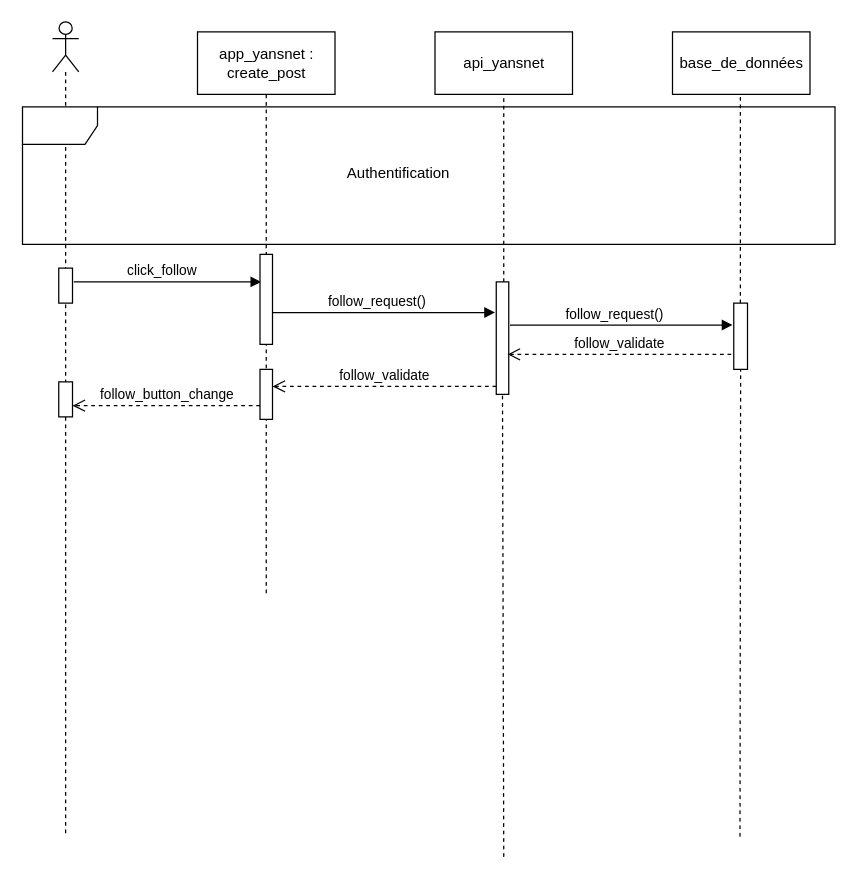
This 856x880 diagram has some shape labels left out. The shapes that lost their labels are listed below. From the top down, each one's centre as x and y in pixels, then its label:
the point at 428,175: ref
the point at 65,427: Etudiant
